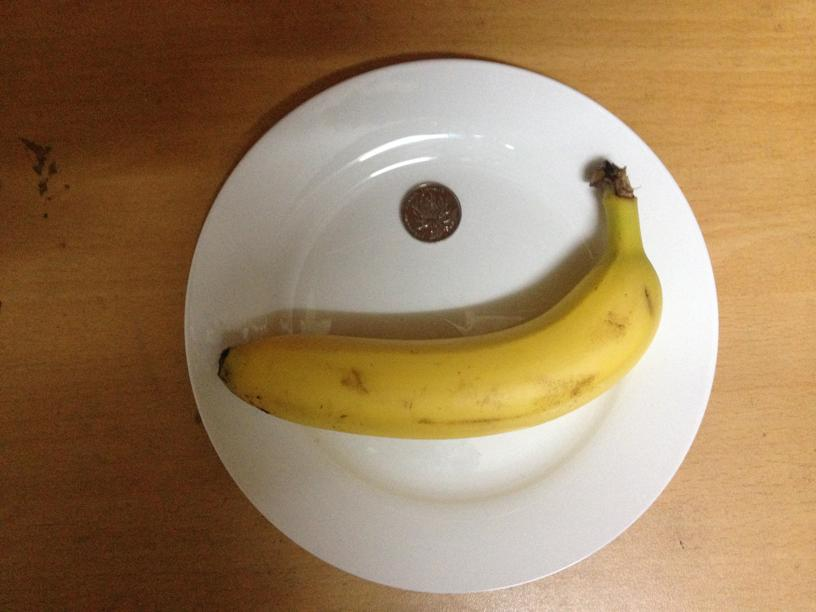banana: (215, 242, 664, 437)
coin: (399, 180, 463, 243)
